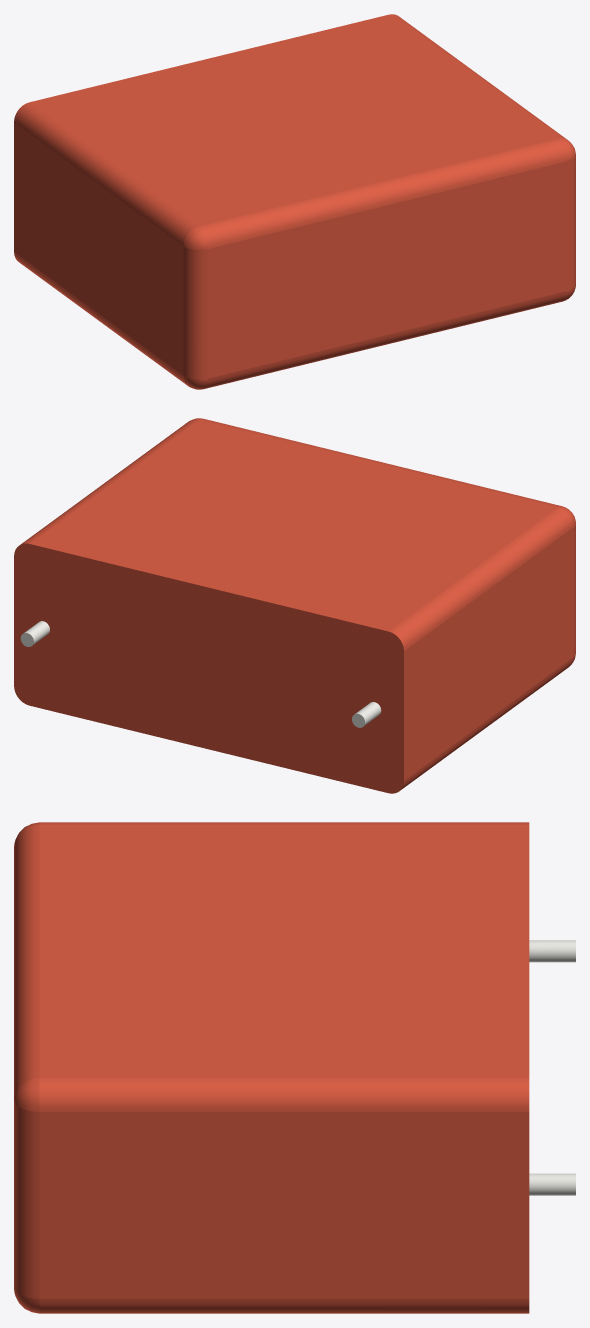
File: C_Rect_L26.5mm_W10.5mm_P22.50mm_MKS4.glb
3 views of the same model, one above another, from view 1: azimuth 30°, elevation 25°; view 2: azimuth 150°, elevation 25°; view 3: azimuth 270°, elevation 25° (orthographic). The views are drawn at different scales.
Parts seen in each view (by area): view 1: Shape_IndexedFaceSet.009, Shape_IndexedFaceSet.007, Shape_IndexedFaceSet, Shape_IndexedFaceSet.016, Shape_IndexedFaceSet.004, Shape_IndexedFaceSet.015, Shape_IndexedFaceSet.002, Shape_IndexedFaceSet.001, Shape_IndexedFaceSet.017, Shape_IndexedFaceSet.011; view 2: Shape_IndexedFaceSet.003, Shape_IndexedFaceSet.009, Shape_IndexedFaceSet, Shape_IndexedFaceSet.004, Shape_IndexedFaceSet.001, Shape_IndexedFaceSet.011, Shape_IndexedFaceSet.016; view 3: Shape_IndexedFaceSet.009, Shape_IndexedFaceSet.012, Shape_IndexedFaceSet.011, Shape_IndexedFaceSet.010, Shape_IndexedFaceSet.016, Shape_IndexedFaceSet.017, Shape_IndexedFaceSet.004, Shape_IndexedFaceSet.013, Shape_IndexedFaceSet.014, Shape_IndexedFaceSet.019.
Boxes of the visible parts, x1,y1,x2,y2 form: Shape_IndexedFaceSet.009: (30,14,557,226); Shape_IndexedFaceSet.007: (208,161,566,378); Shape_IndexedFaceSet: (14,122,183,375); Shape_IndexedFaceSet.016: (199,139,566,248); Shape_IndexedFaceSet.004: (14,102,198,245); Shape_IndexedFaceSet.015: (204,291,566,388); Shape_IndexedFaceSet.002: (183,247,207,379); Shape_IndexedFaceSet.001: (14,252,186,384); Shape_IndexedFaceSet.017: (567,156,575,290); Shape_IndexedFaceSet.011: (389,14,566,139); Shape_IndexedFaceSet.003: (14,543,403,793); Shape_IndexedFaceSet.009: (30,420,557,631); Shape_IndexedFaceSet: (404,527,573,780); Shape_IndexedFaceSet.004: (389,507,573,651); Shape_IndexedFaceSet.001: (400,657,573,790); Shape_IndexedFaceSet.011: (21,419,198,544); Shape_IndexedFaceSet.016: (199,418,561,507); Shape_IndexedFaceSet.009: (39,824,529,1077); Shape_IndexedFaceSet.012: (39,1112,529,1298); Shape_IndexedFaceSet.011: (39,1077,529,1111); Shape_IndexedFaceSet.010: (39,1299,529,1313); Shape_IndexedFaceSet.016: (14,824,39,1098); Shape_IndexedFaceSet.017: (14,1102,39,1298); Shape_IndexedFaceSet.004: (39,822,529,824); Shape_IndexedFaceSet.013: (529,940,575,962); Shape_IndexedFaceSet.014: (529,1173,575,1195); Shape_IndexedFaceSet.019: (14,1077,39,1111).
Bounding box in the file's own units: 10.43 × 4.13 × 9.02.
